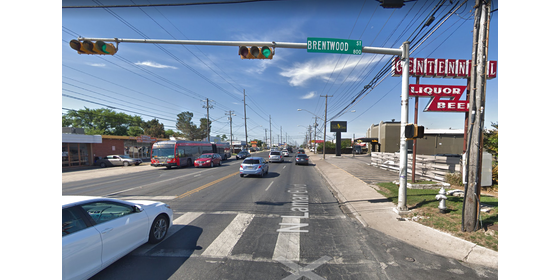street name sign: (302, 34, 367, 58)
